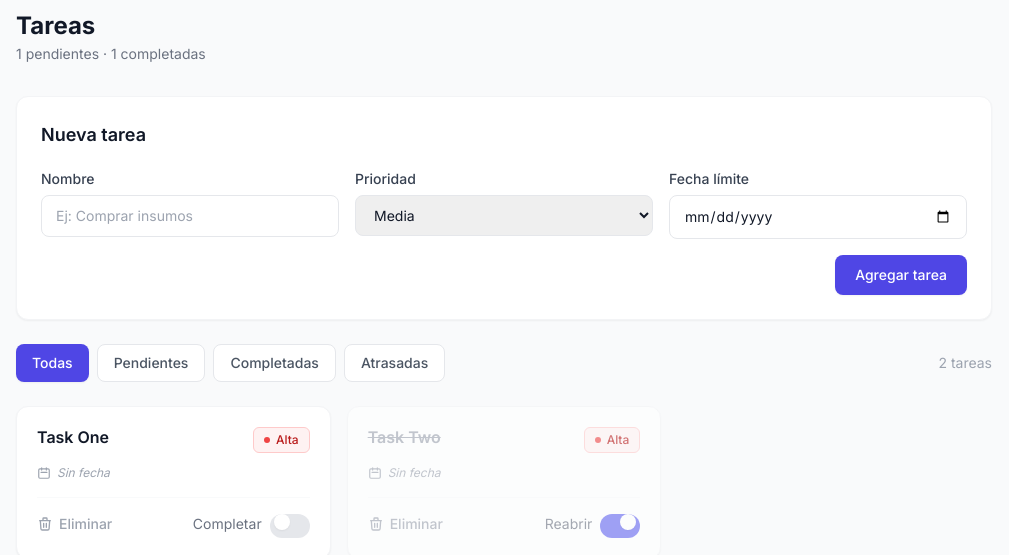
it: TasksPage › filters tasks by completed
Expected: the heading "Task One" is shown, top-left (37, 427), bottom-right (109, 447)
What coordinates should you click on to do the following:
click the button "Completadas"
I would click on:
 (275, 363)
Its box is top-left (213, 344), bottom-right (336, 382).
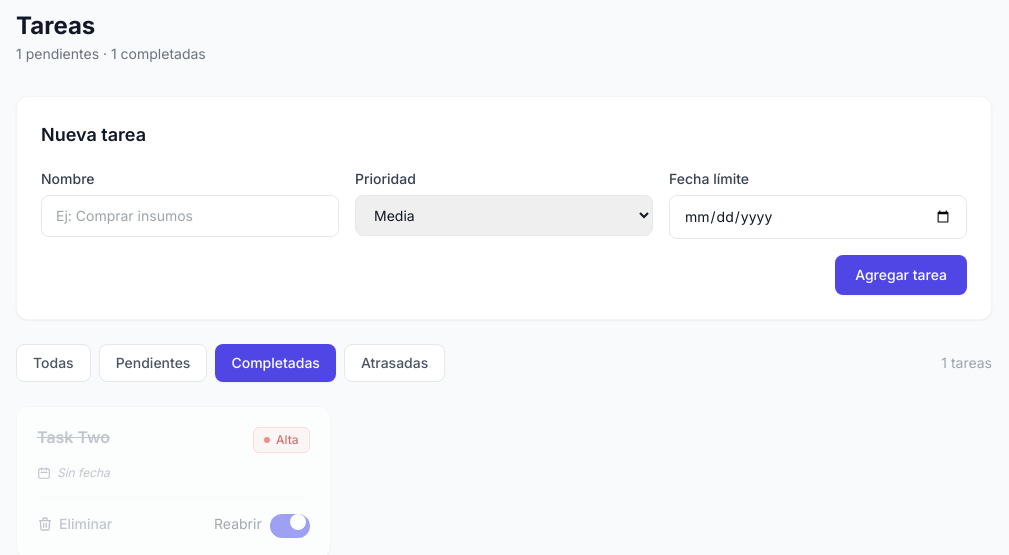
Expected: the heading "Task Two" is shown, top-left (37, 427), bottom-right (110, 447)
Expected: the heading "Task One" is gone
